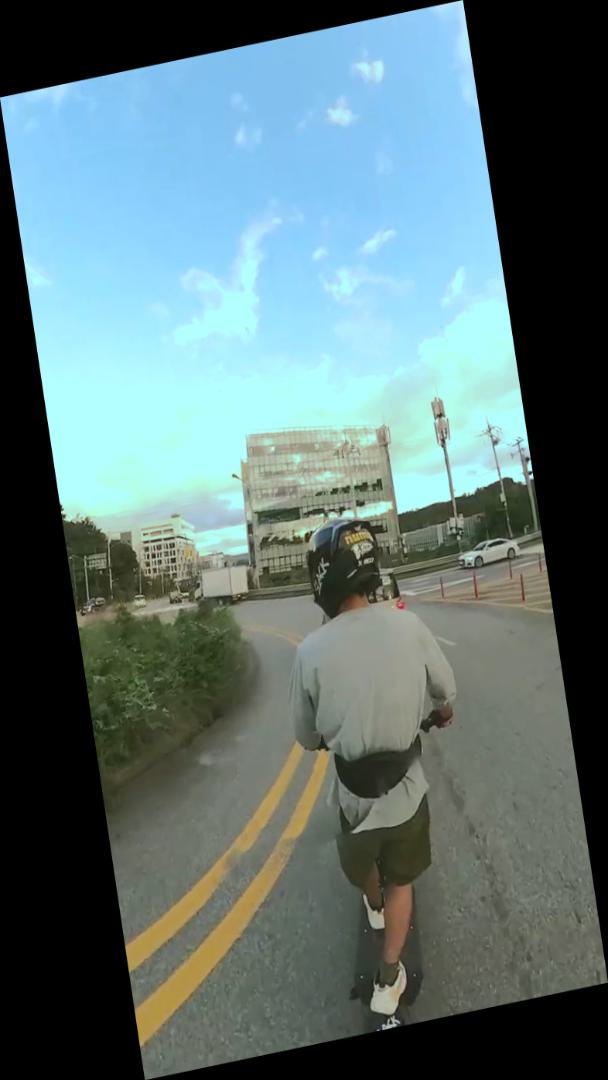helmet: (260, 496, 505, 1040)
